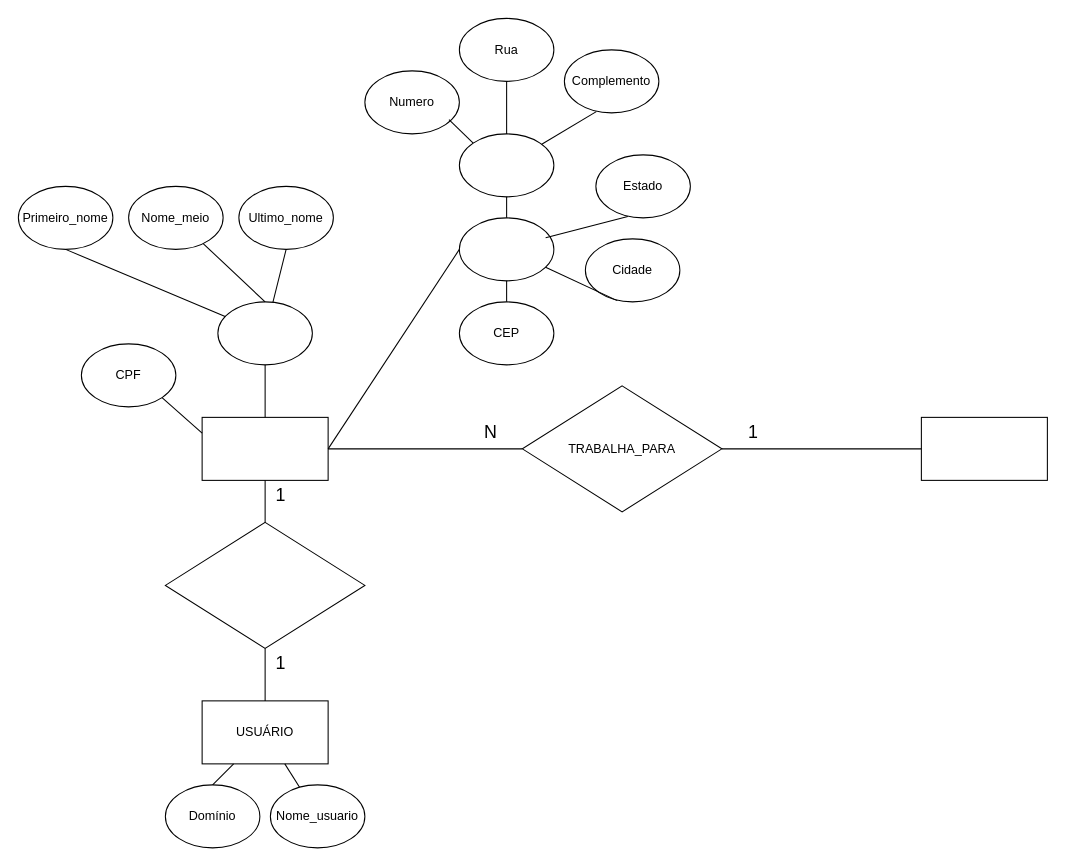
Some shapes in this 1066 by 866 pixel diagram are drawn without their labels. The centre of each missing label's shape, as x and y in pixels:
"ACESSA" belongs at point (264, 584).
"DEPARTAMENTO" belongs at point (983, 448).
"Endereço" belongs at point (506, 249).
"FUNCIONÁRIO" belongs at point (264, 448).
"Logradouro" belongs at point (506, 165).
"Nome" belongs at point (264, 333).
